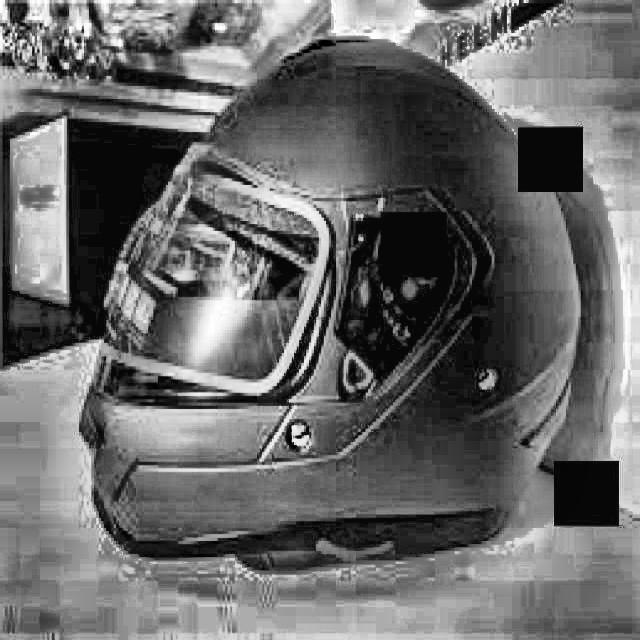Helmet: (86, 23, 563, 578)
